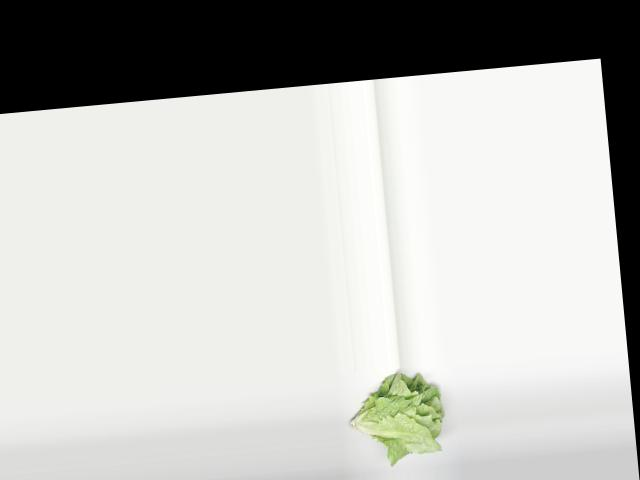lettuce: (342, 368, 449, 469)
